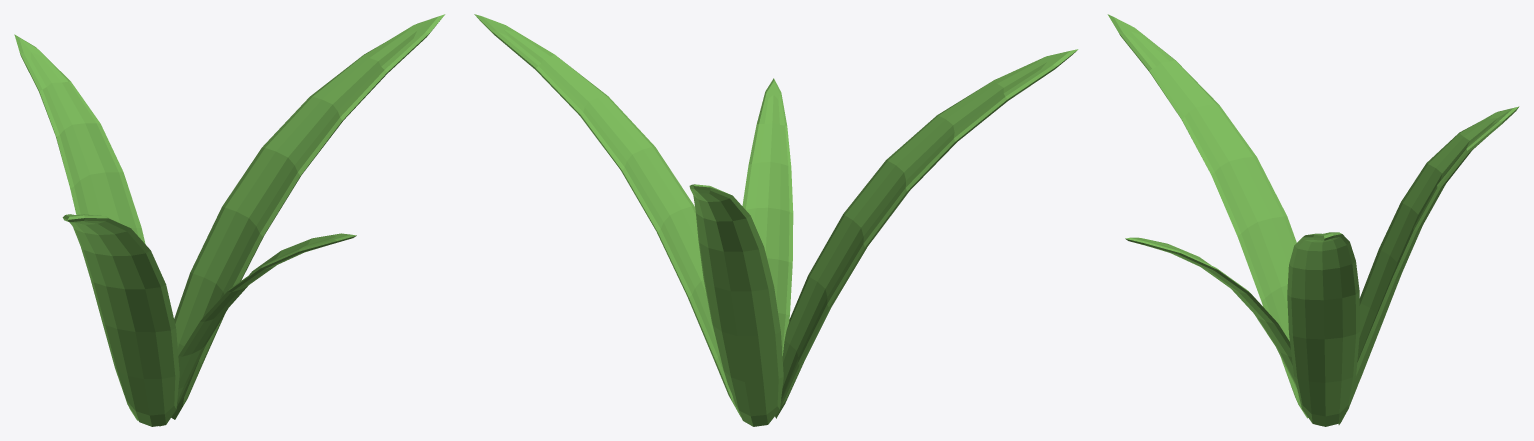
The model's file is plant_start.fbx.
3 renders of one model, left to right at view 1: azimuth 30°, elevation 25°; view 2: azimuth 150°, elevation 25°; view 3: azimuth 270°, elevation 25°, orthographic. The views are drawn at different scales.
Parts seen in each view (by area): view 1: Grass.012; view 2: Grass.012; view 3: Grass.012.
Boxes of the visible parts, x1=… form: Grass.012: x1=14, y1=14, x2=445, y2=426; Grass.012: x1=474, y1=14, x2=1078, y2=426; Grass.012: x1=1107, y1=14, x2=1519, y2=426.
Bounding box in the file's own units: 127 × 83.24 × 98.39.
